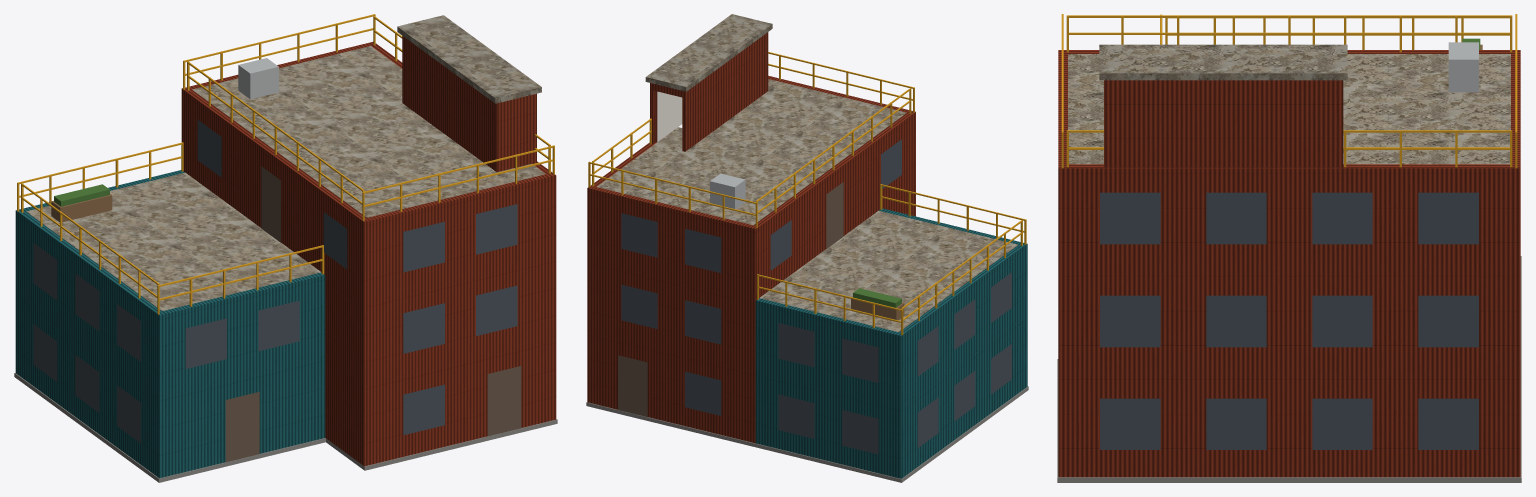
Rendered from mh-container-flats.towns-v1.lod1.glb.
3 renders of one model, left to right at view 1: azimuth 30°, elevation 25°; view 2: azimuth 150°, elevation 25°; view 3: azimuth 270°, elevation 25°, orthographic. The views are drawn at different scales.
Parts seen in each view (by area): view 1: mh-container-flats; view 2: mh-container-flats; view 3: mh-container-flats.
Boxes of the visible parts, left/top/right/bottom form: mh-container-flats: left=14, top=14, right=557, bottom=482; mh-container-flats: left=586, top=14, right=1028, bottom=482; mh-container-flats: left=1057, top=14, right=1521, bottom=482.
Size of the model in its own units: 13.9 by 11.95 by 12.26.
3 materials, 2 textured.
